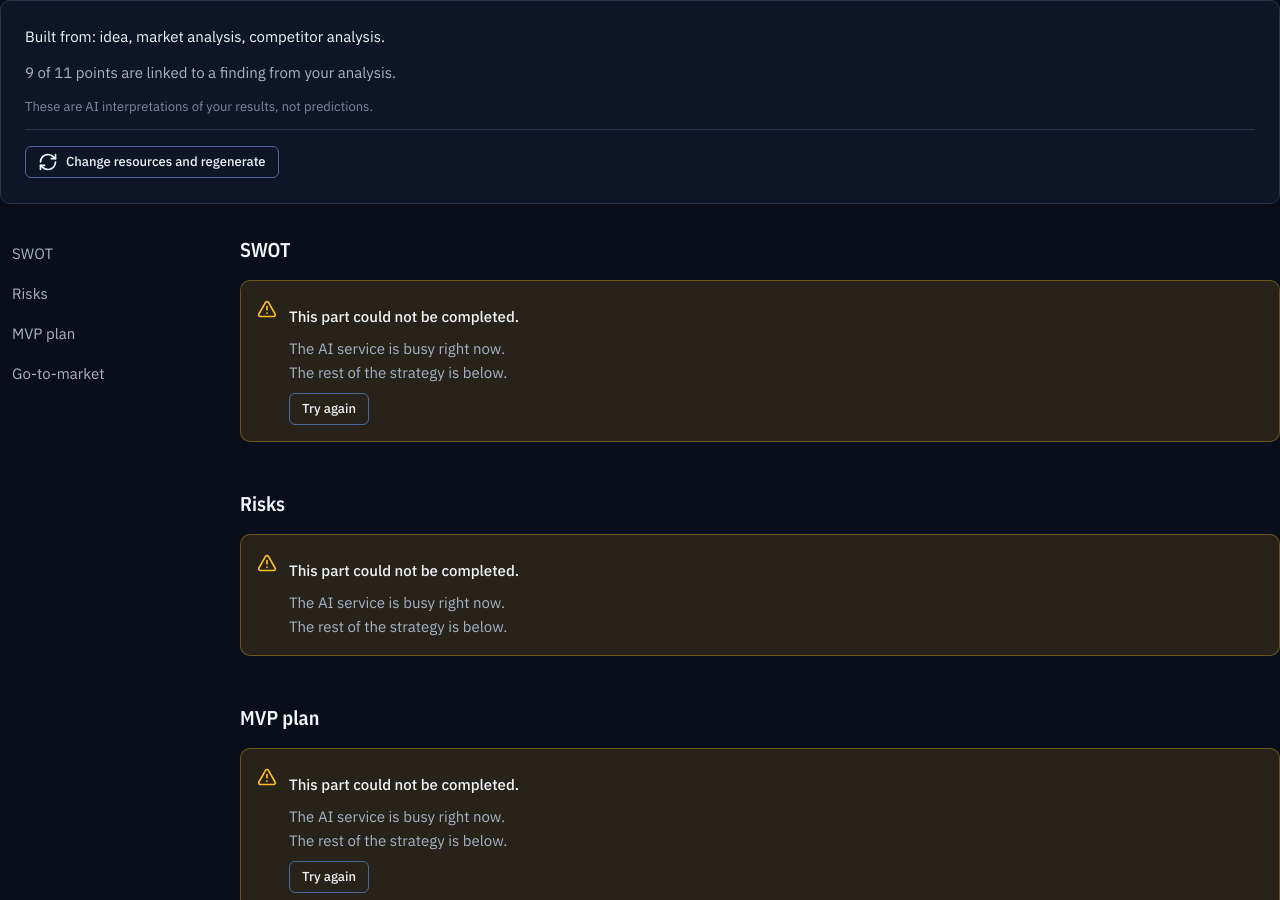
Test: MVP plan in the Strategy tab › gives each failed section its own retry, sends one request, and blocks both while it is pending
The image size is (1280, 900).
Click the 2nd button "Try again" at (329, 877), box x1=289 y1=861 x2=369 y2=893
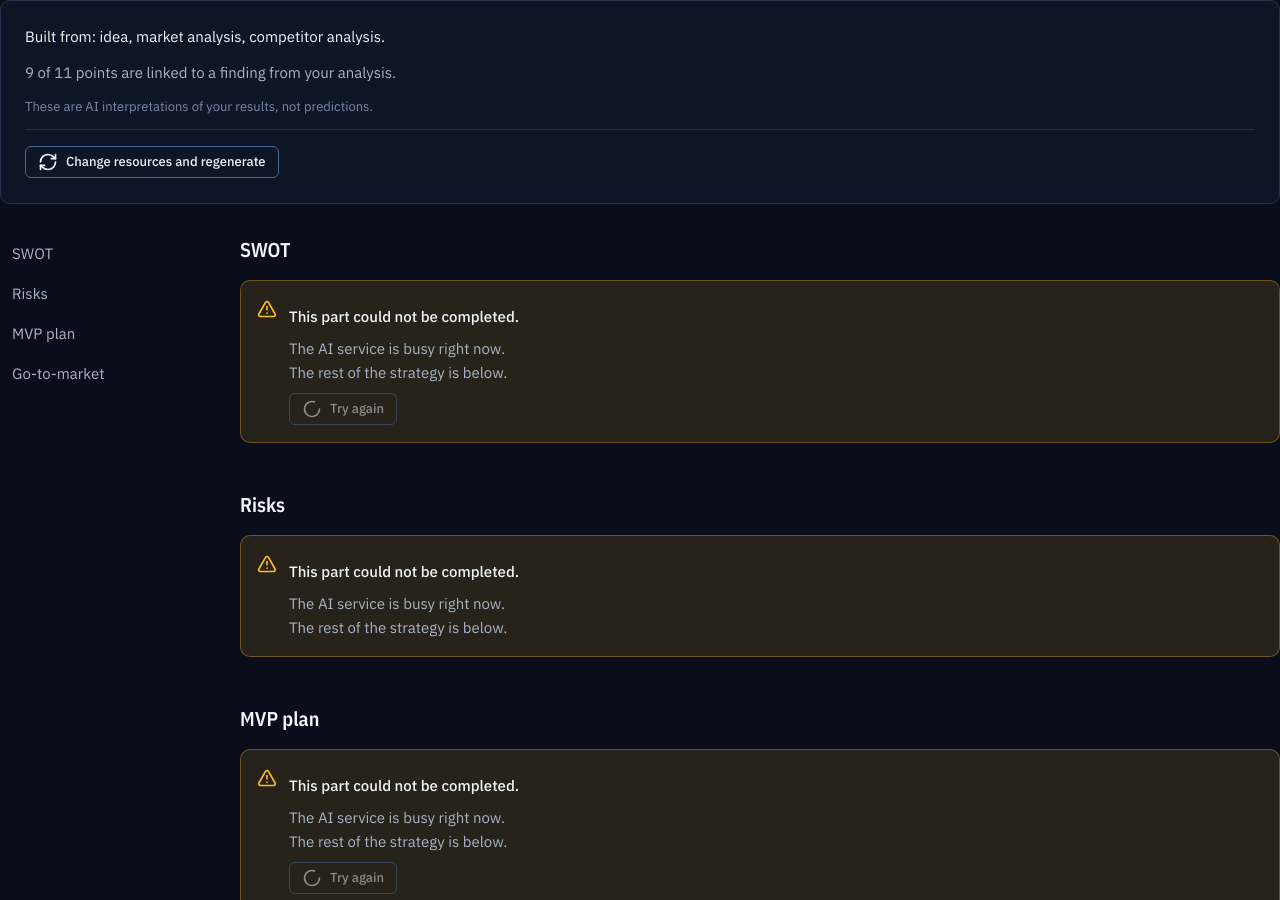
Expected: the 1st button "Try again" is disabled
Expected: the 2nd button "Try again" is disabled, x1=289 y1=862 x2=397 y2=894
Click the 1st button "Try again" at (343, 409), box x1=289 y1=393 x2=397 y2=425
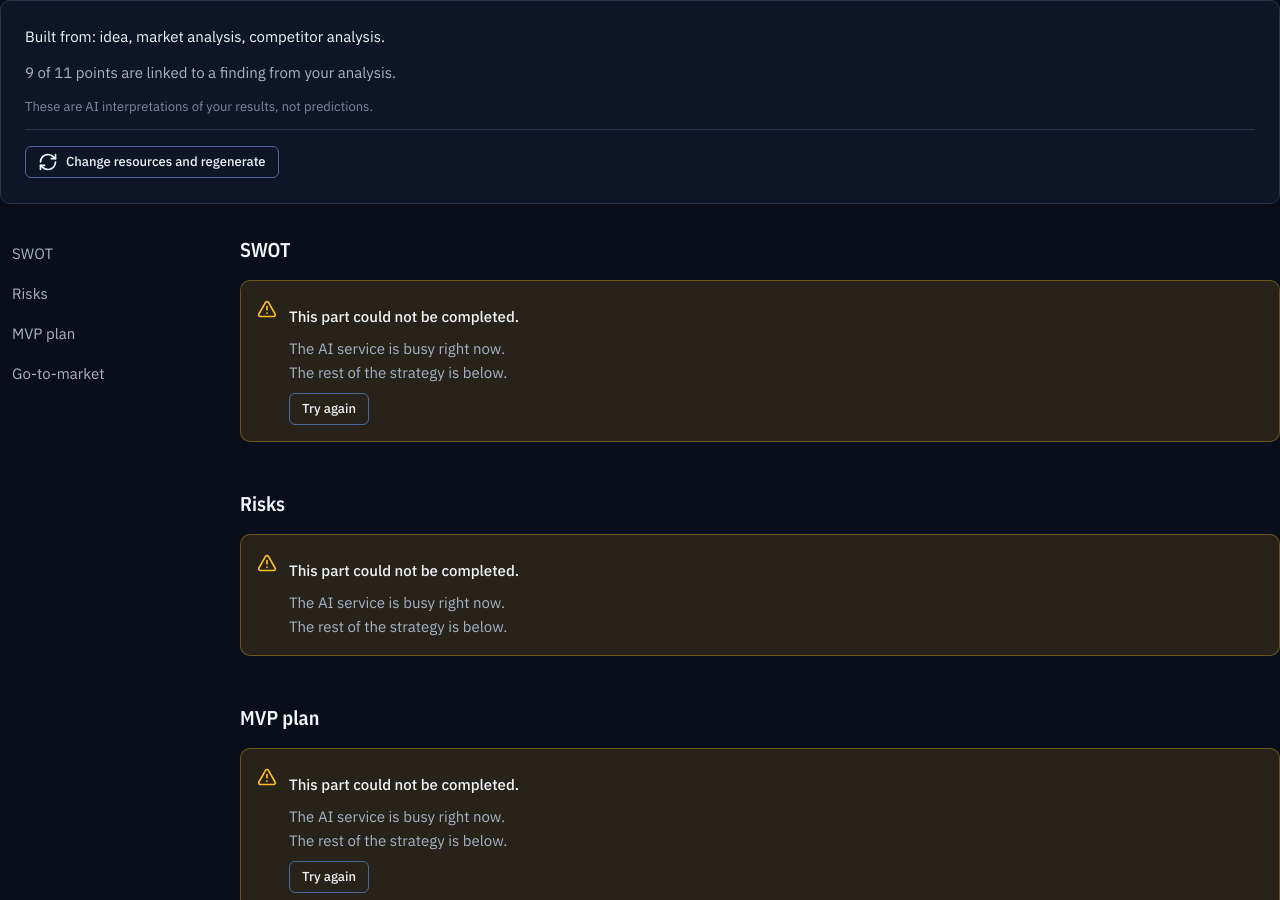
Expected: the 2nd button "Try again" is enabled, x1=289 y1=861 x2=369 y2=893
